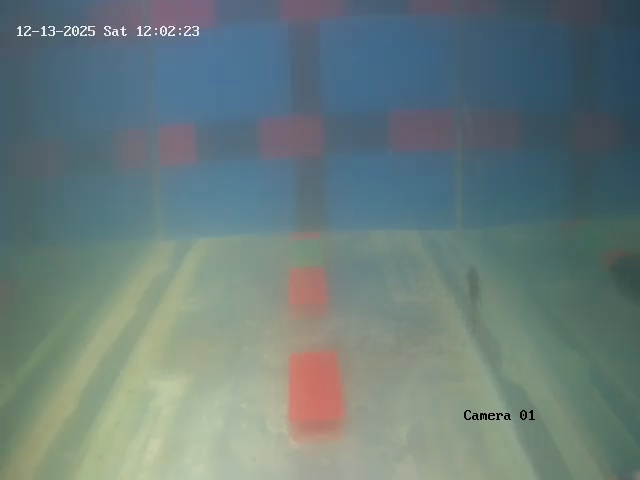fish: (446, 248, 492, 328)
